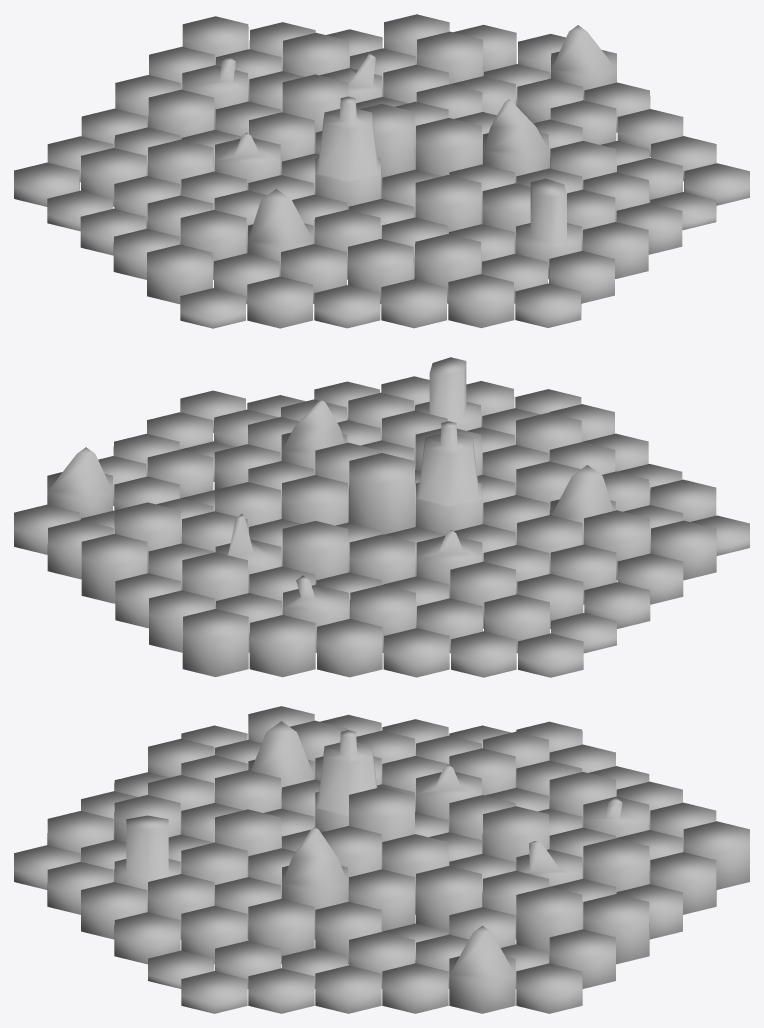
Rendered from ColliderBoard.glb.
3 views of the same model, one above another, from view 1: azimuth 30°, elevation 25°; view 2: azimuth 150°, elevation 25°; view 3: azimuth 270°, elevation 25° (orthographic).
Visible parts, largest first — view 1: ColliderBoard; view 2: ColliderBoard; view 3: ColliderBoard.
Boxes of the visible parts, box(x1,y1,x2,y2) form: ColliderBoard: box(14, 14, 749, 328); ColliderBoard: box(14, 357, 749, 677); ColliderBoard: box(14, 706, 749, 1013).
Bounding box in the file's own units: 13.4 × 2.58 × 14.89.
1 material, 1 textured.
